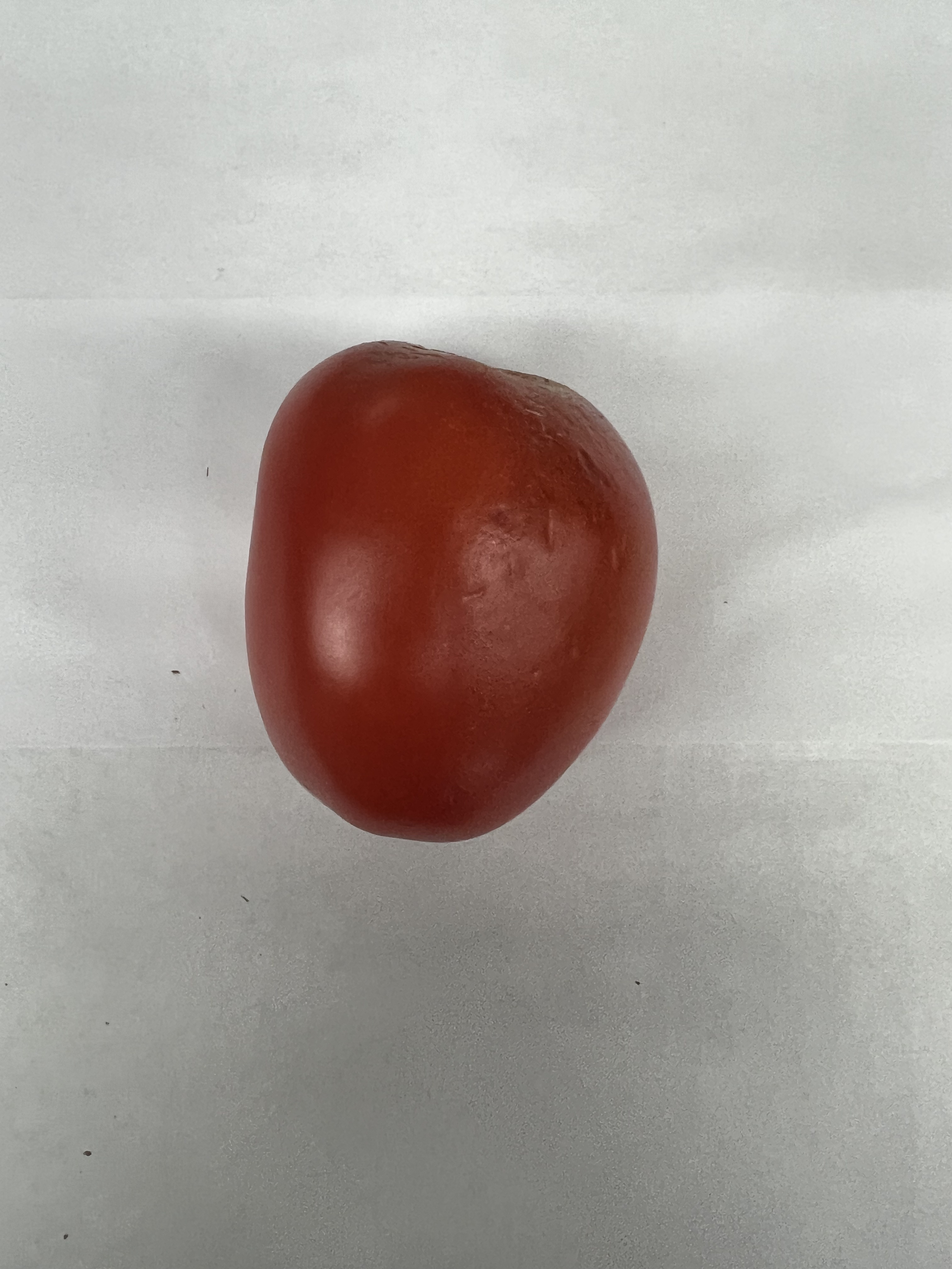produce: (238, 335, 664, 849)
